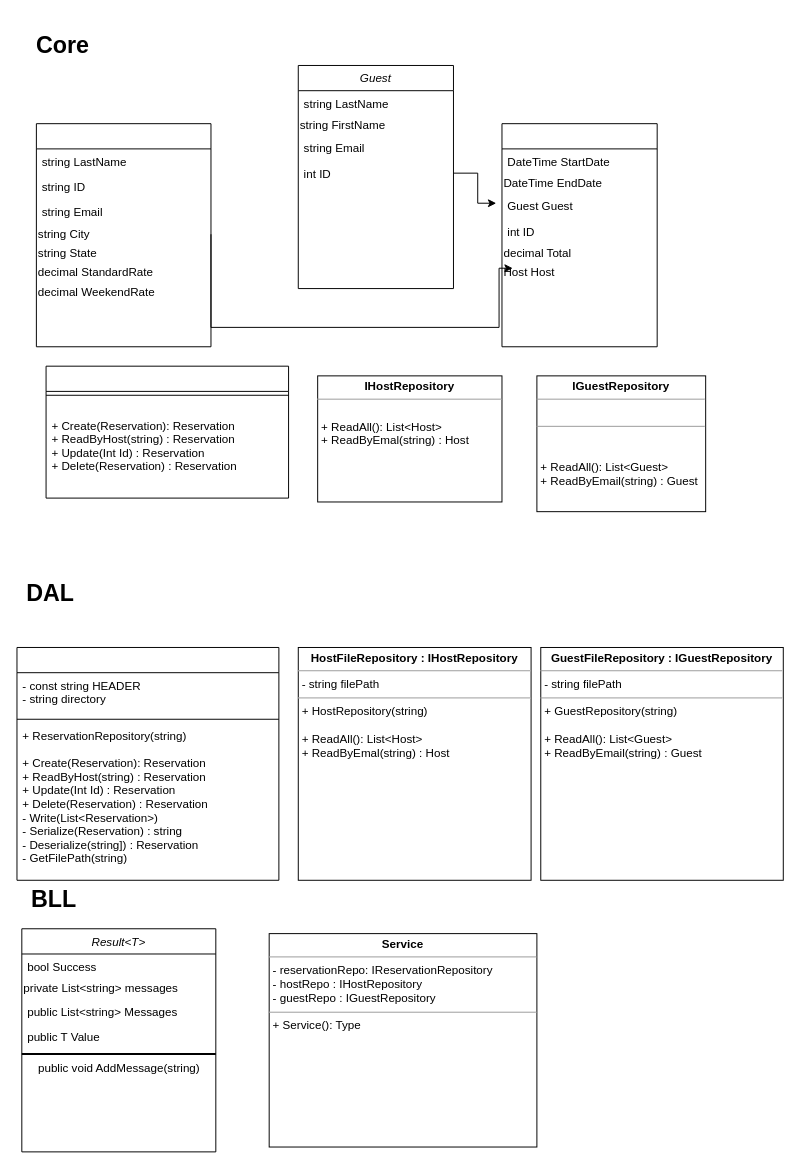
The diagram is 800 pixels wide and 1169 high, and some of its shapes have lost their labels. Here are the shapes that lost their labels. From the top down, the box of each, then its label:
(35, 123, 211, 347): Host
(501, 123, 657, 347): Reservation
(45, 365, 289, 498): IReservationRepository
(16, 647, 279, 880): ReservationFileRepository : IReservation Repository
